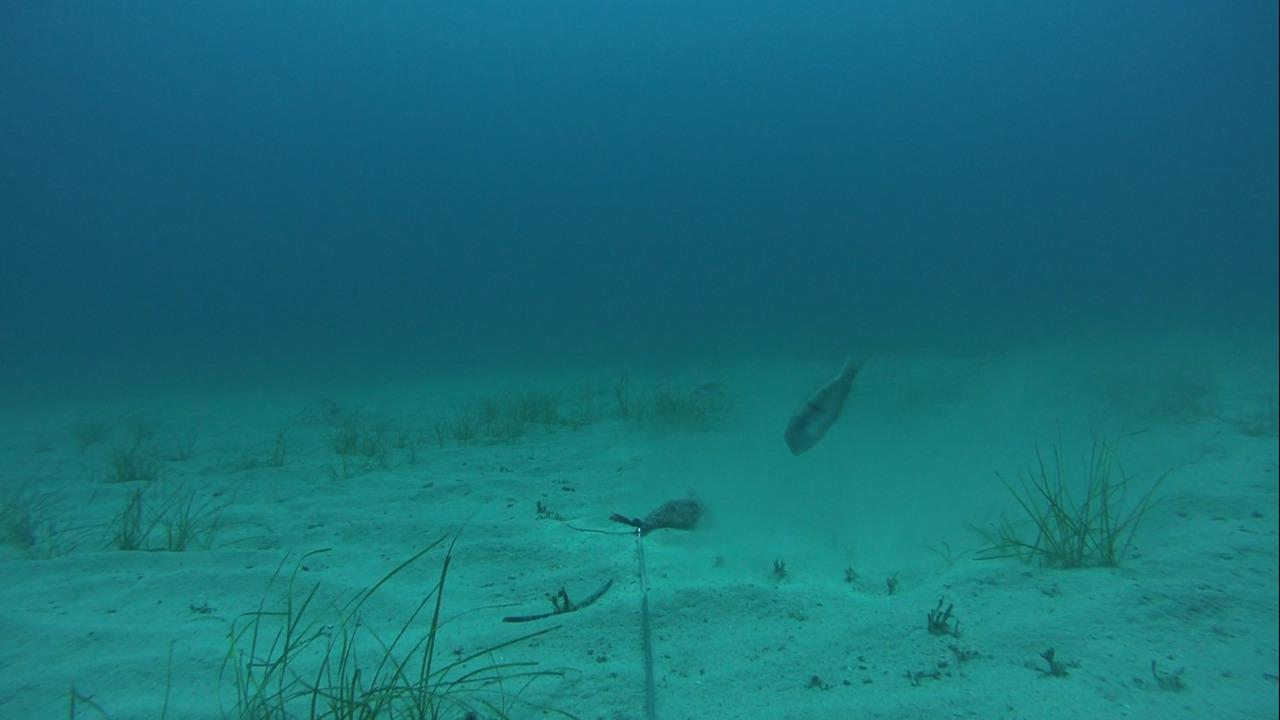raor: (778, 349, 863, 458)
